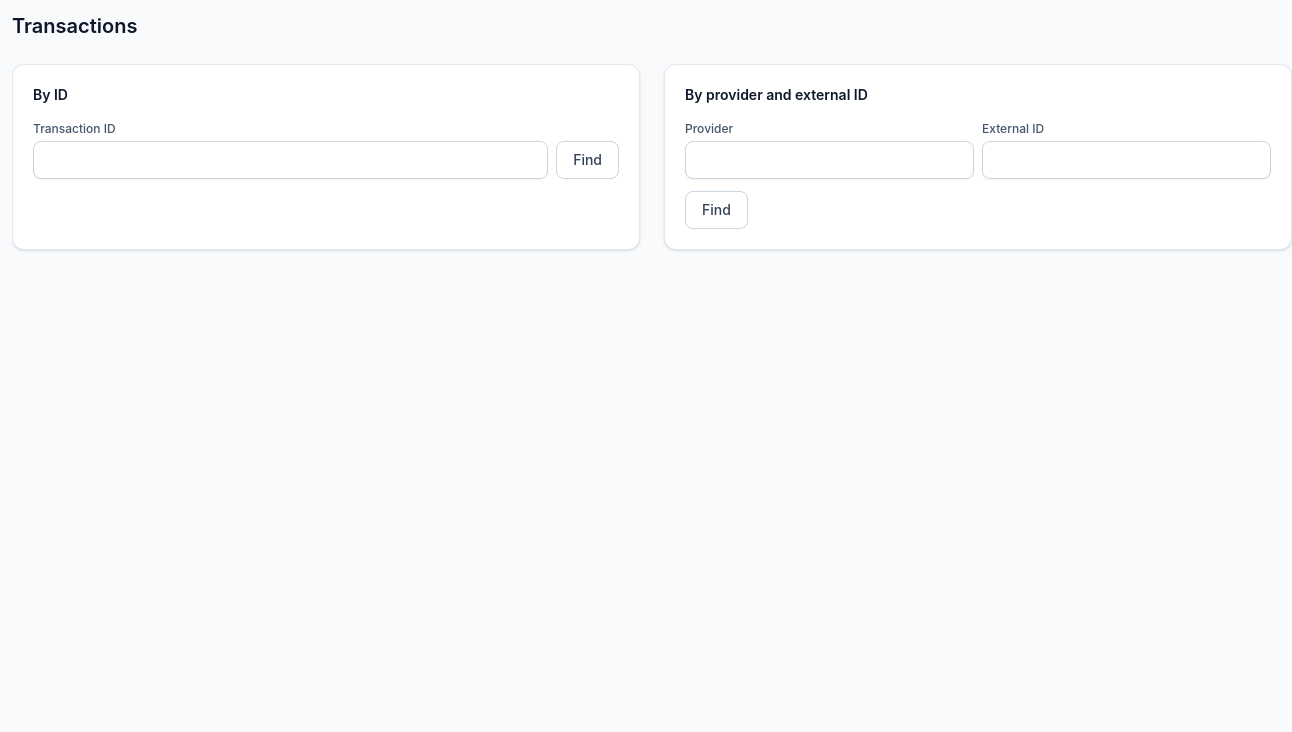
Test: TransactionsPage › finding a transaction by provider and external ID
Type "provider-a" into the field labelled "Provider". click: {"x": 830, "y": 160}
box: [685,141,974,179]
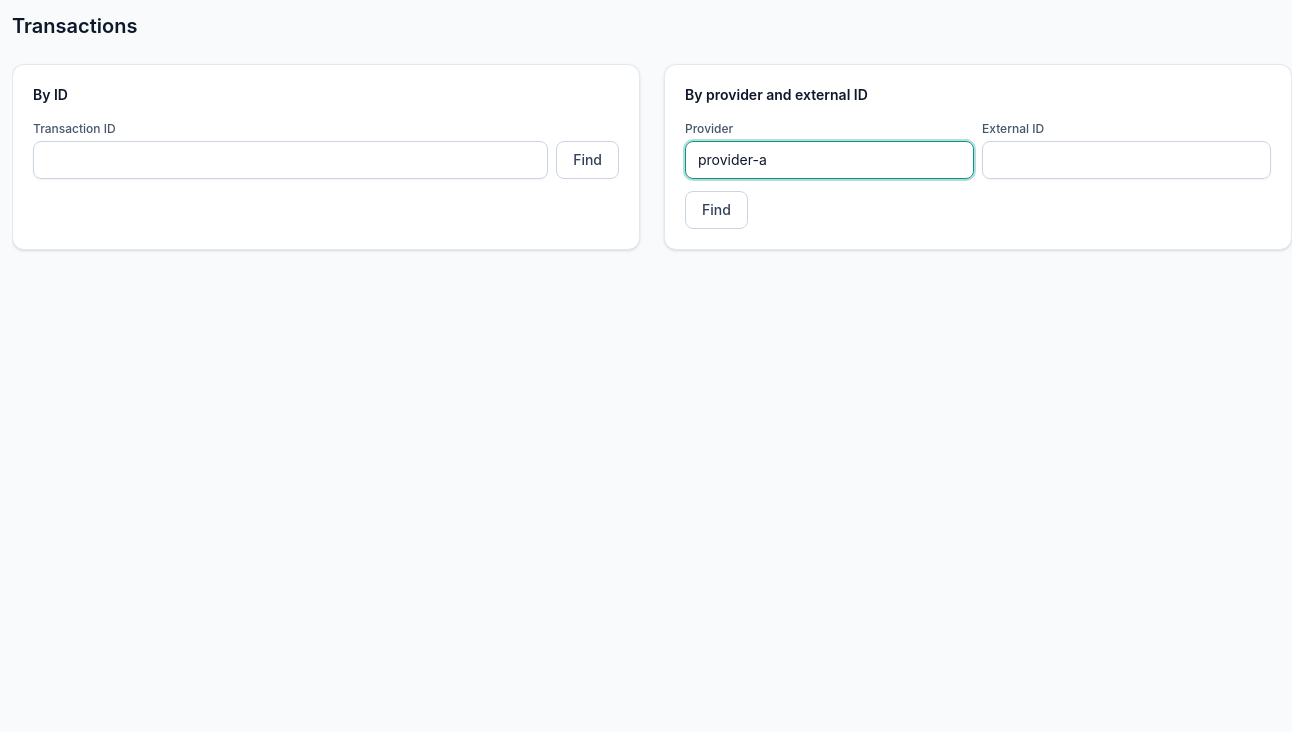
Type "bet-42" into the field labelled "External ID". click: {"x": 1126, "y": 160}
box: [982,141,1271,179]
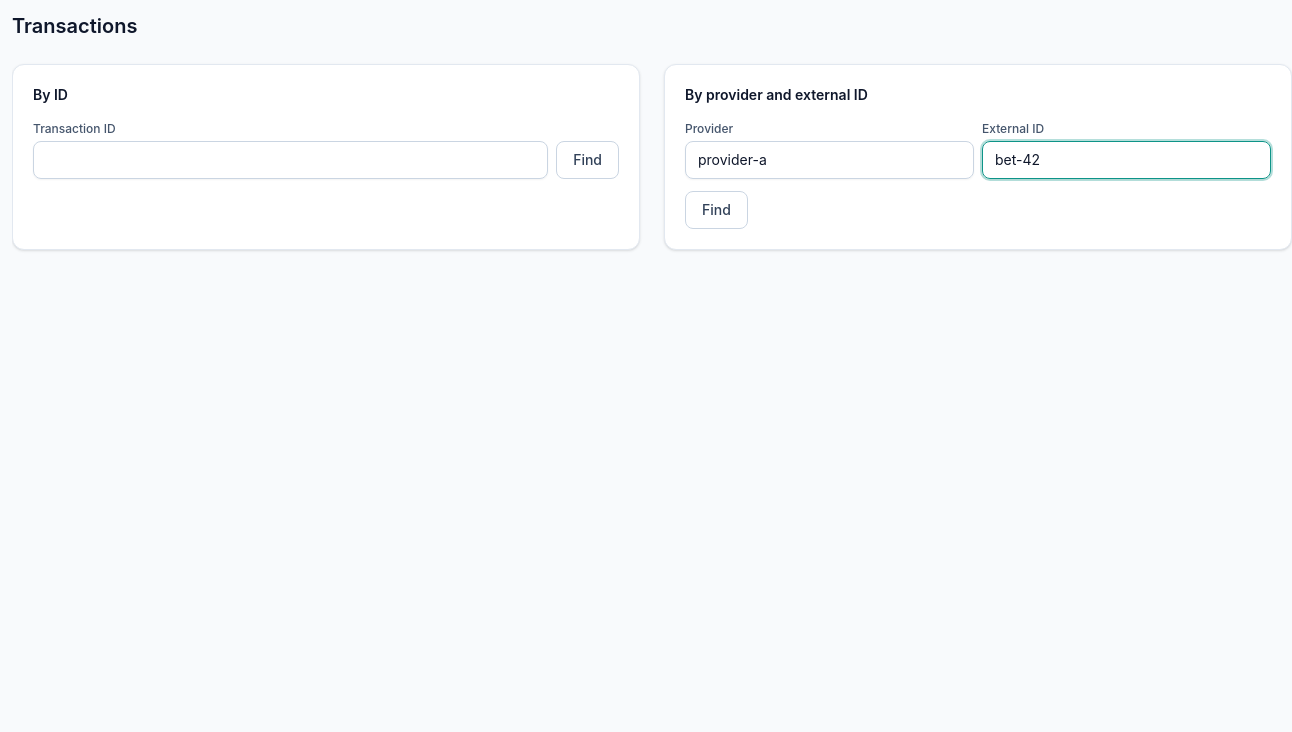
Click the button "Find" below "By provider and external ID". click: {"x": 716, "y": 210}
box: [685,191,748,229]
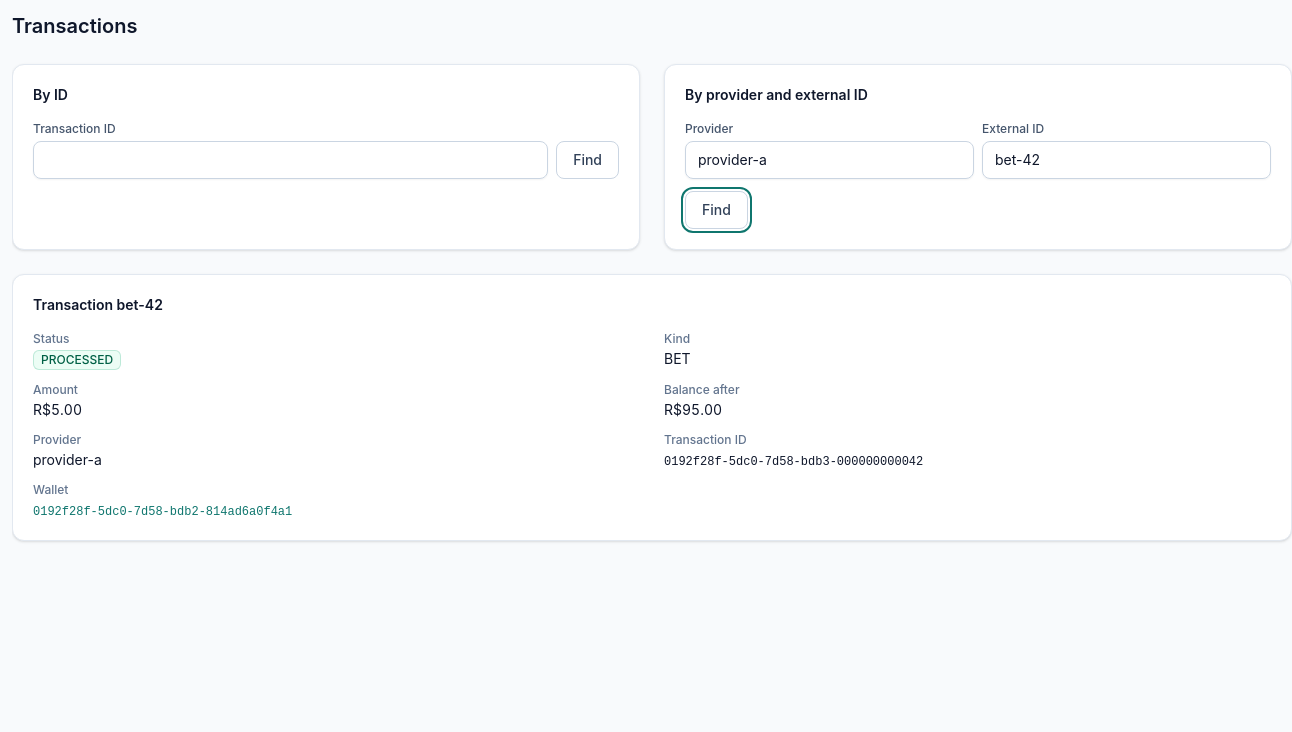
Expected: the element "Transaction bet-42" shows "PROCESSED", [41,352,113,367]
Expected: the element "Transaction bet-42" is shown, [664,350,691,367]
Expected: the element "Transaction bet-42" shows "R$95.00", [664,401,722,418]
